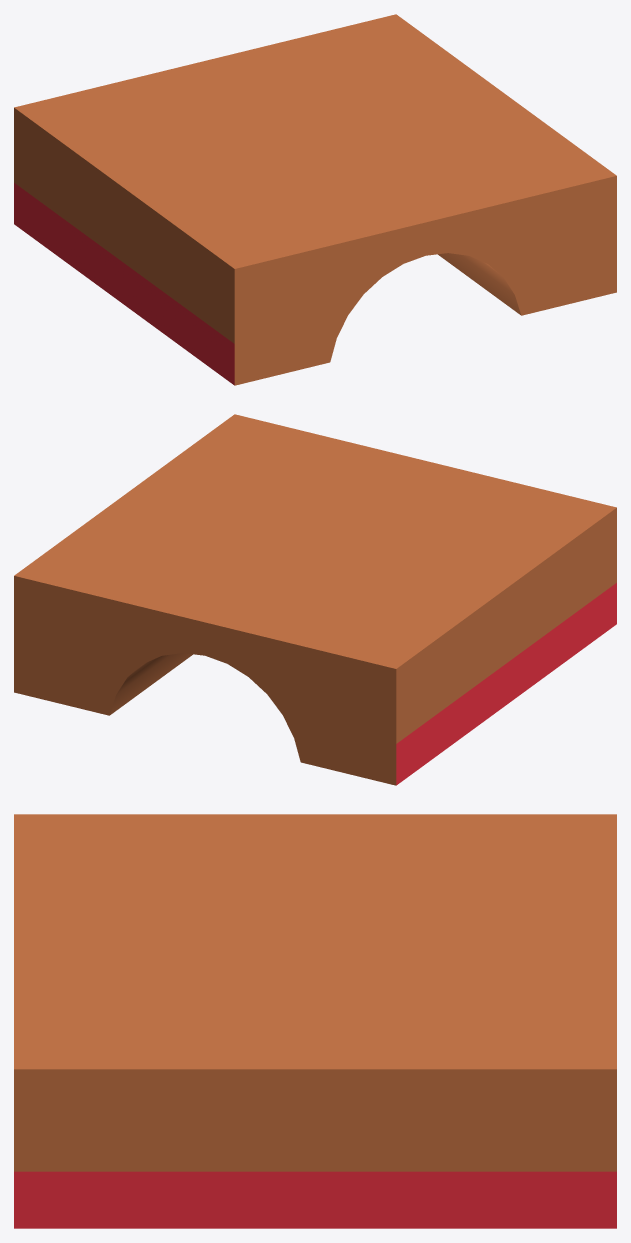
The model's file is Tunel 7.FBX.
3 renders of one model, top to bottom at view 1: azimuth 30°, elevation 25°; view 2: azimuth 150°, elevation 25°; view 3: azimuth 270°, elevation 25°, orthographic. The views are drawn at different scales.
Visible parts, largest first — view 1: tunnelWide; view 2: tunnelWide; view 3: tunnelWide.
Part boxes in pixels (left/top/right/bottom): tunnelWide: left=14, top=14, right=616, bottom=385; tunnelWide: left=14, top=414, right=616, bottom=785; tunnelWide: left=14, top=814, right=616, bottom=1228.
Size of the model in its own units: 79.99 by 23.33 by 79.99.
